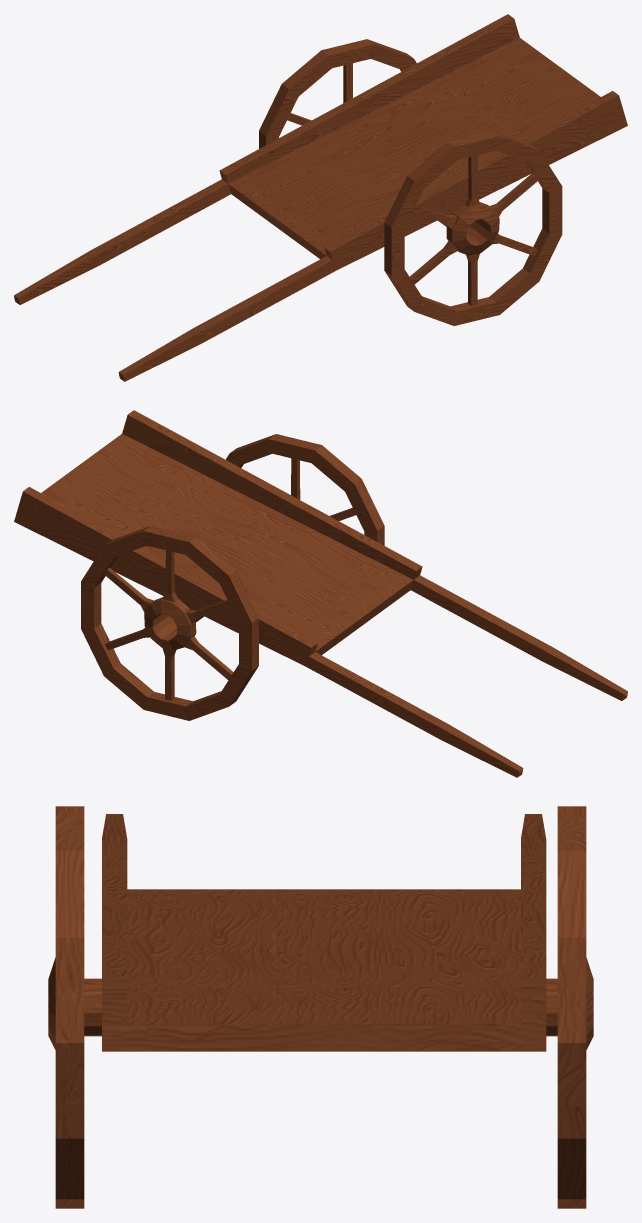
Rendered from ARC0710043.fbx.
3 renders of one model, top to bottom at view 1: azimuth 30°, elevation 25°; view 2: azimuth 150°, elevation 25°; view 3: azimuth 270°, elevation 25°, orthographic. The views are drawn at different scales.
Visible parts, largest first — view 1: smARC0710043; view 2: smARC0710043; view 3: smARC0710043.
Boxes of the visible parts, x1,y1,x2,y2 form: smARC0710043: (14,14,627,381); smARC0710043: (14,410,627,777); smARC0710043: (48,806,593,1208).
Size of the model in its own units: 422 by 143 by 197.
Materials: 1 (1 with a texture image).
